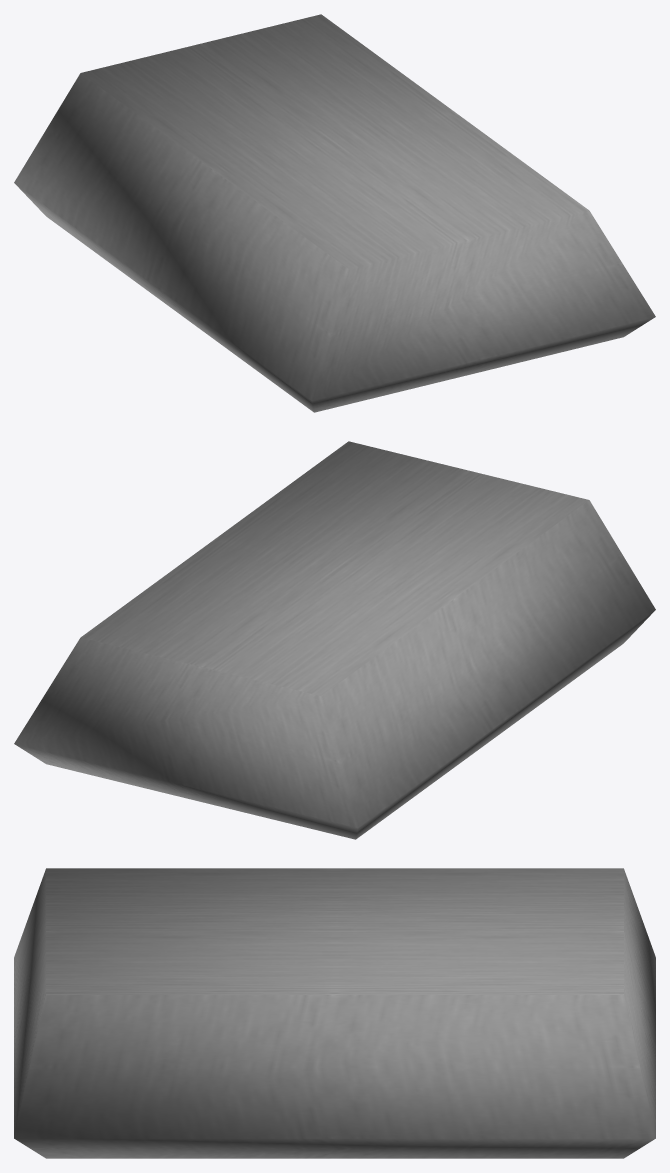
Rendered from large-ingot.glb.
3 views of the same model, one above another, from view 1: azimuth 30°, elevation 25°; view 2: azimuth 150°, elevation 25°; view 3: azimuth 270°, elevation 25° (orthographic). The views are drawn at different scales.
Visible parts, largest first — view 1: LargeIngot; view 2: LargeIngot; view 3: LargeIngot.
Part boxes in pixels (x1,y1,x2,y2): LargeIngot: (14, 14, 655, 412); LargeIngot: (14, 441, 655, 839); LargeIngot: (14, 868, 655, 1158).
Size of the model in its own units: 0.4 by 0.15 by 0.6.
1 material, 1 textured.
